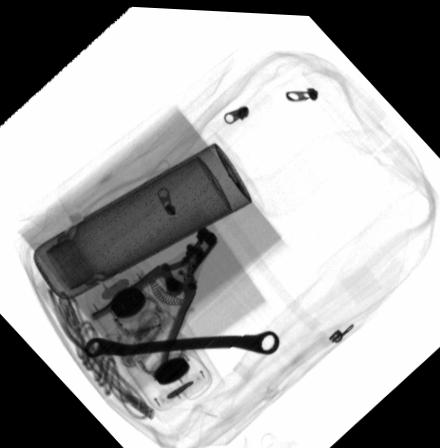Pliers: (91, 222, 222, 369)
Wrench: (82, 326, 281, 358)
